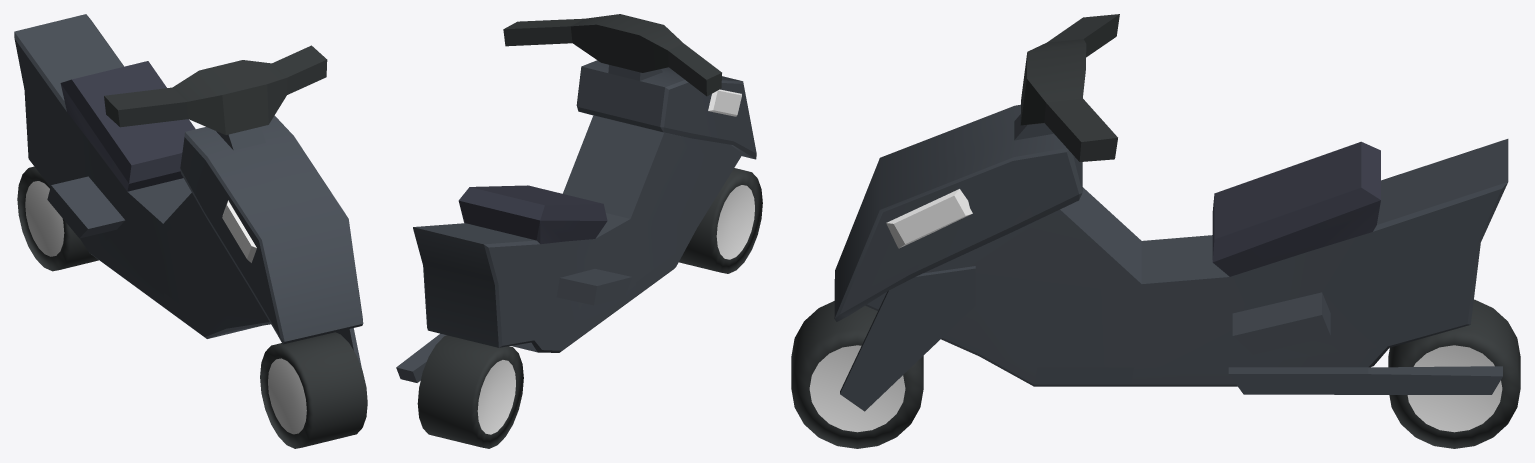
The model's file is motorcycle 1 black.fbx.
The picture shows the model from 3 angles, left to right: view 1: azimuth 30°, elevation 25°; view 2: azimuth 150°, elevation 25°; view 3: azimuth 270°, elevation 25°; orthographic projection. The views are drawn at different scales.
Visible parts, largest first — view 1: motorcycle_1_black; view 2: motorcycle_1_black; view 3: motorcycle_1_black.
Boxes of the visible parts, left/top/right/bottom form: motorcycle_1_black: left=14, top=14, right=367, bottom=448; motorcycle_1_black: left=396, top=14, right=762, bottom=448; motorcycle_1_black: left=791, top=14, right=1520, bottom=448.
Bounding box in the file's own units: 47.17 × 66.04 × 116.
